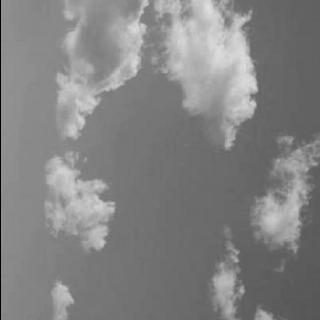Cirrocumulus: (32, 0, 320, 320)
